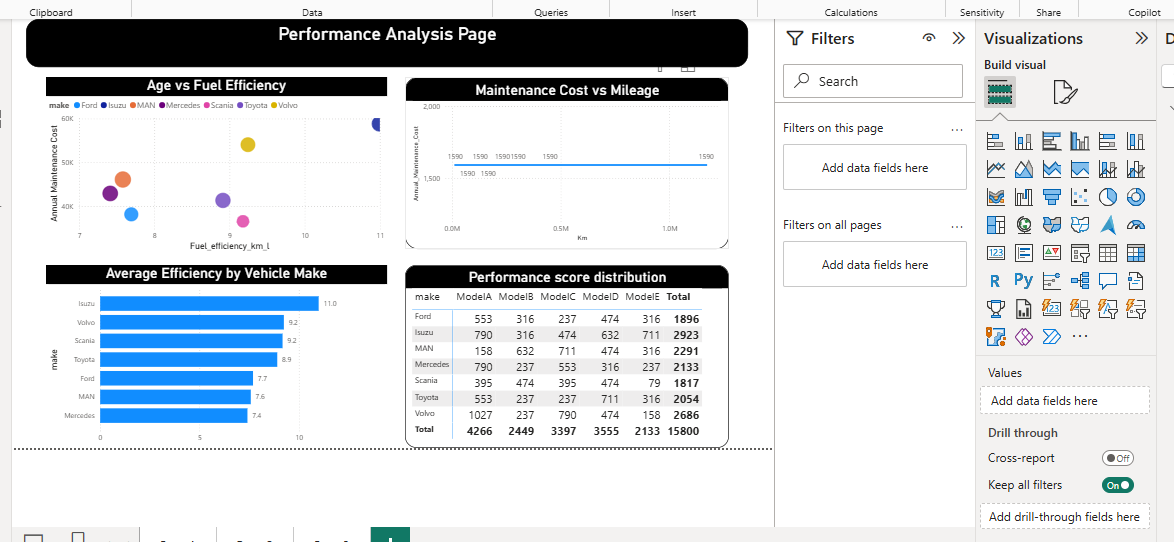

Layout of this report page (visuals, bound fields, positions):
{"tool":"powerbi","page":{"name":"Page 2","canvas":[1280,720],"ordinal":1},"visuals":[{"type":"scatterChart","title":"Age vs Fuel Efficiency","fields":{"X":["Avg(fleet_project_datasets_fixed_new.fuel_efficiency_km_l)"],"Y":["Sum(fleet_project_datasets_fixed_new.annual_maintenance_cost)"],"Size":["Sum(fleet_project_datasets_fixed_new.current_mileage_km)"],"Series":["fleet_project_datasets_fixed_new.make"]},"box":[57.1,97.4,572.8,297.3],"z":0},{"type":"barChart","title":"Average Efficiency by Vehicle Make","fields":{"Y":["Avg(fleet_project_datasets_fixed_new.fuel_efficiency_km_l)"],"Category":["fleet_project_datasets_fixed_new.make"]},"box":[57.1,413.2,572.8,307.4],"z":1000},{"type":"lineChart","title":" Maintenance Cost vs Mileage","fields":{"Y":["Sum(fleet_project_datasets_fixed_new.annual_maintenance_cost)"],"Category":["fleet_project_datasets_fixed_new.current_mileage_km"]},"box":[660.2,97.4,544.3,288.9],"z":2000},{"type":"pivotTable","title":"Performance score distribution","fields":{"Rows":["fleet_project_datasets_fixed_new.make"],"Columns":["fleet_project_datasets_fixed_new.model","fleet_project_datasets_fixed_new.vehicle_type"],"Values":["Sum(fleet_project_datasets_fixed_new.driver_performance_score)"]},"box":[660.2,413.2,544.3,307.4],"z":3000},{"type":"textbox","title":"Performance Analysis Page","box":[23.5,0,1212.8,80.6],"z":3001}]}

Visuals, with their boxes on the page's 1280x720 design canvas (x1, y1, x2, y2). These are canvas units, not pixel positions in the 1174x542 screenshot, which may show the page scaled, cropped or inside an application window:
"Age vs Fuel Efficiency" scatterChart: {"left": 57, "top": 97, "right": 630, "bottom": 395}
"Average Efficiency by Vehicle Make" barChart: {"left": 57, "top": 413, "right": 630, "bottom": 721}
" Maintenance Cost vs Mileage" lineChart: {"left": 660, "top": 97, "right": 1204, "bottom": 386}
"Performance score distribution" pivotTable: {"left": 660, "top": 413, "right": 1204, "bottom": 721}
"Performance Analysis Page" textbox: {"left": 24, "top": 0, "right": 1236, "bottom": 81}
